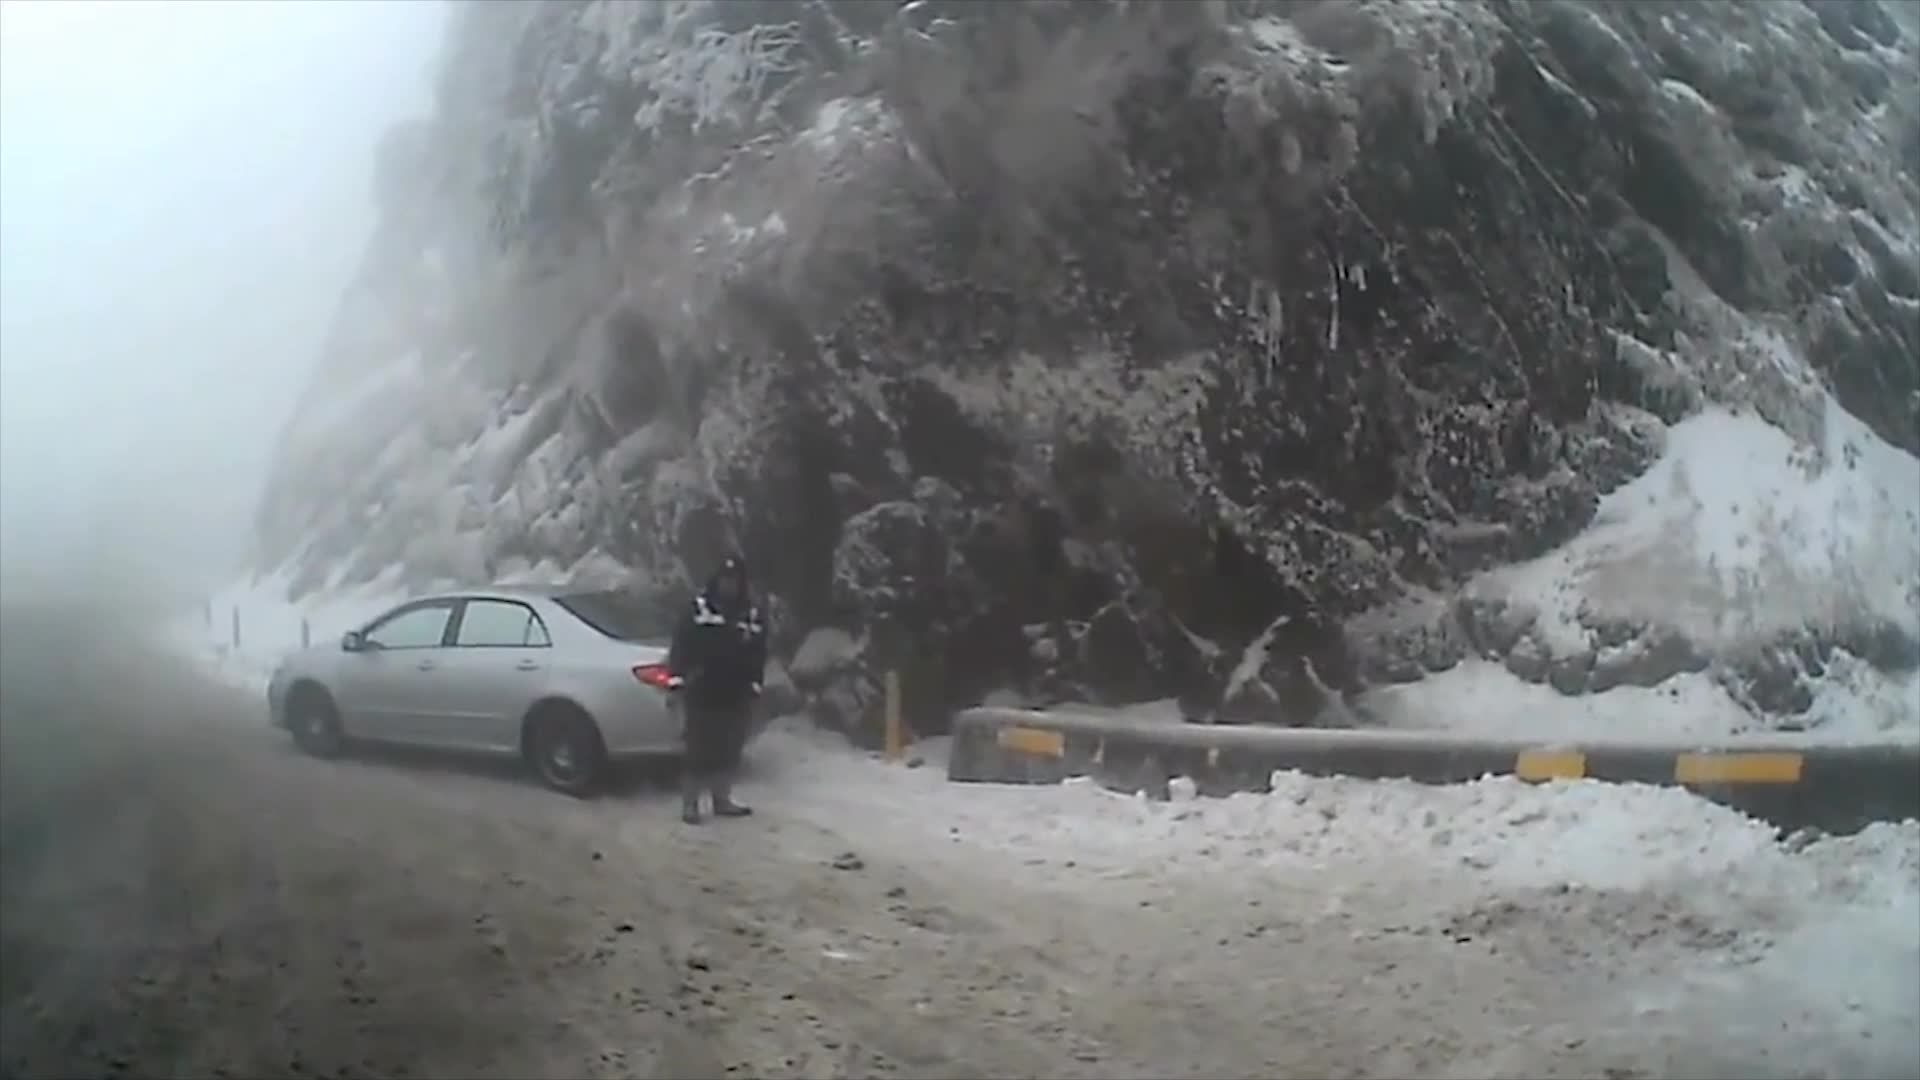pedestrian: (668, 553, 770, 824)
vehicle: (265, 583, 764, 796)
